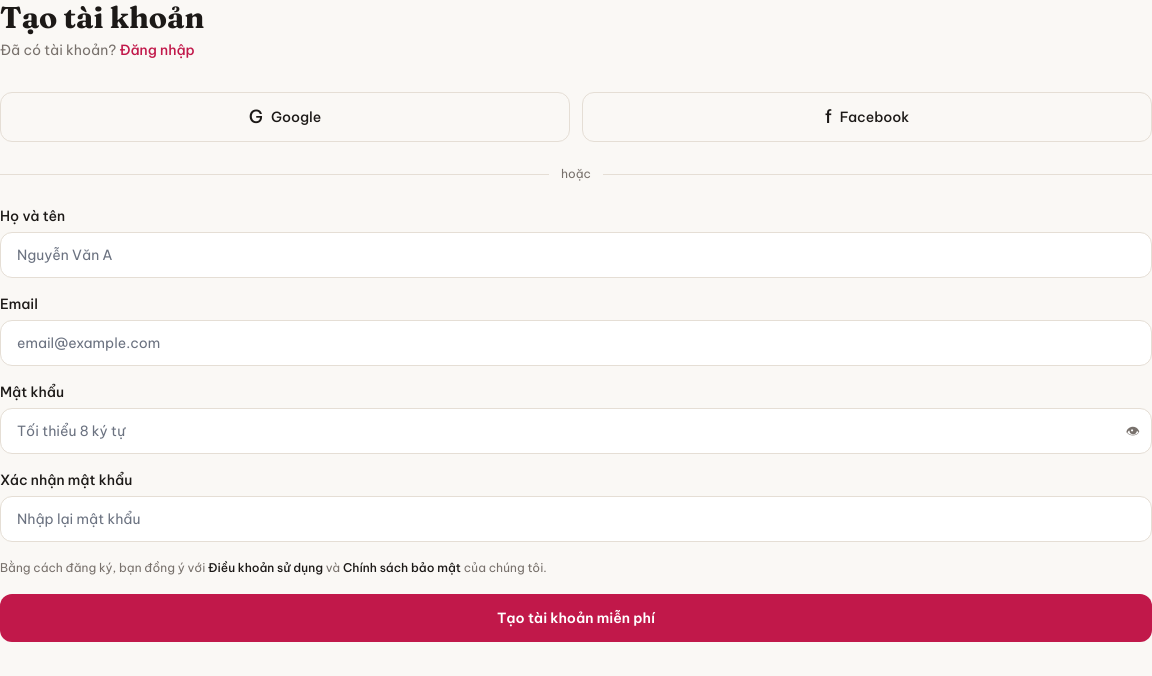
Test case: RegisterPage.vue › displays network error when server is unreachable
Step 1. Type "Test User" into the field labelled "Họ và tên" → {"x": 576, "y": 255}, box [0,232,1151,278]
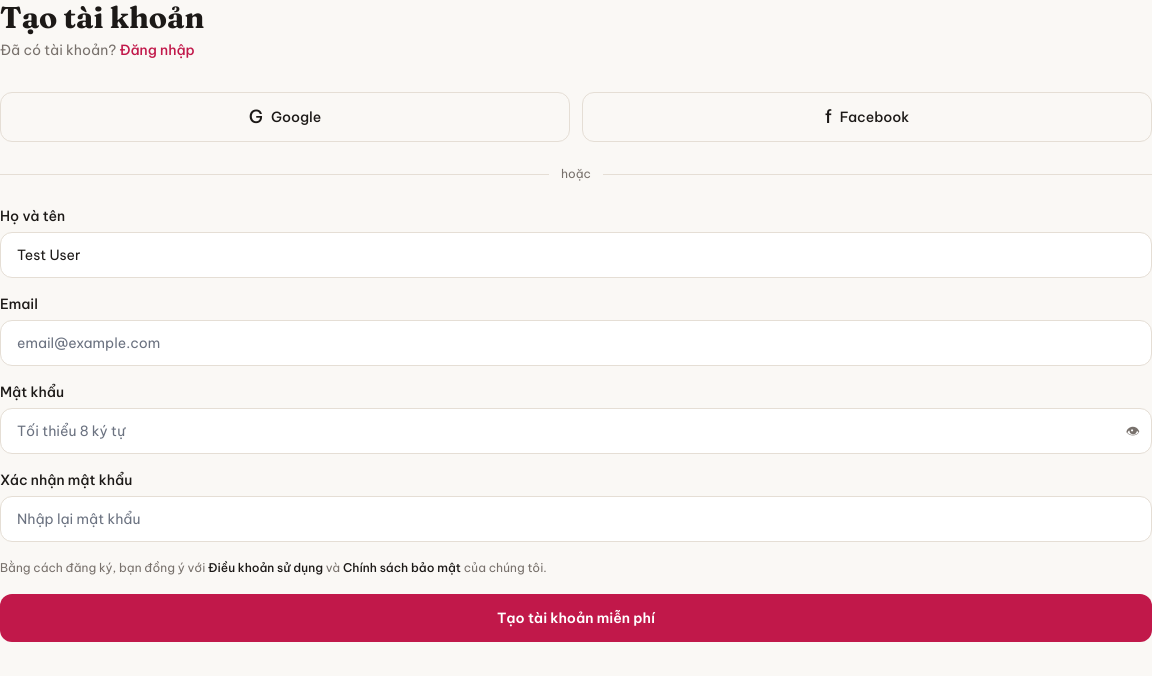
Step 2. Type "test@example.com" into the field labelled "Email" → {"x": 576, "y": 343}, box [0,320,1151,366]
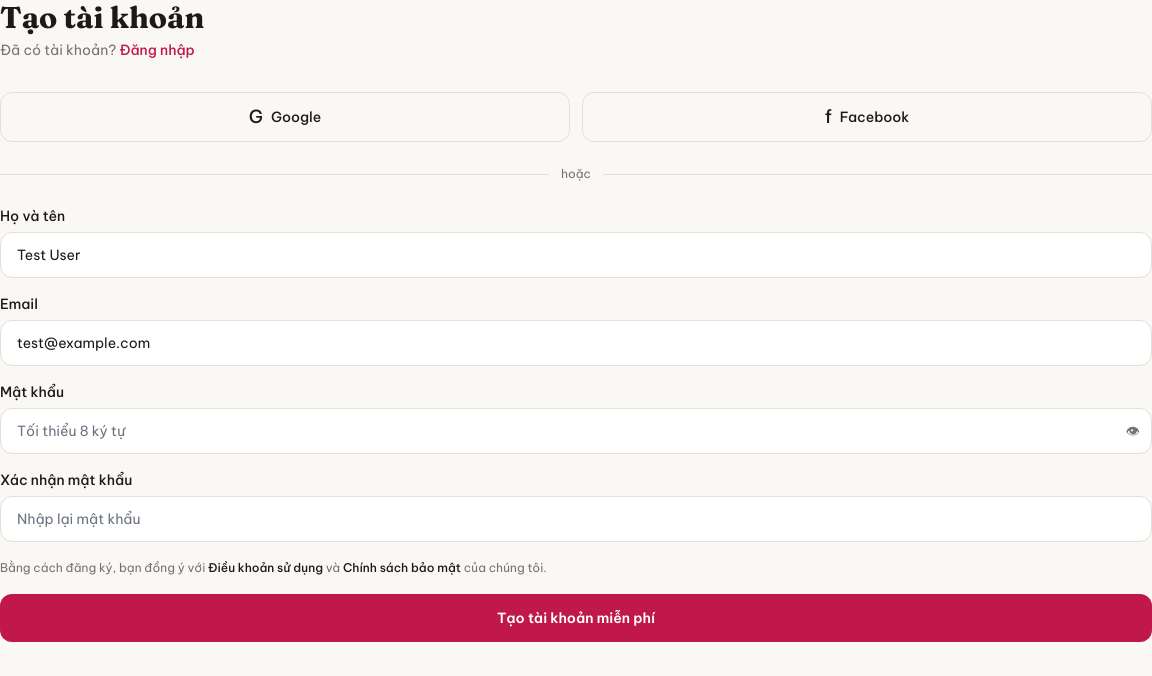
Step 3. Type "password123" into the password field labelled "Mật khẩu" → {"x": 576, "y": 431}, box [0,408,1151,454]
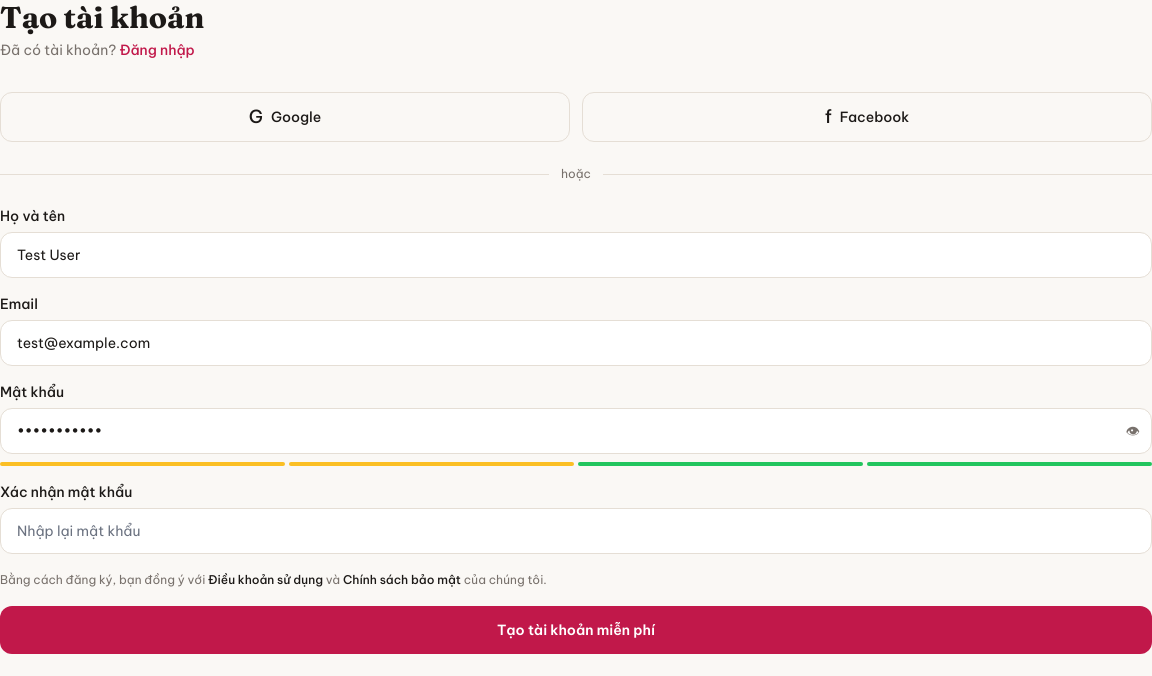
Step 4. Type "password123" into the password field labelled "Xác nhận mật khẩu" → {"x": 576, "y": 531}, box [0,508,1151,554]
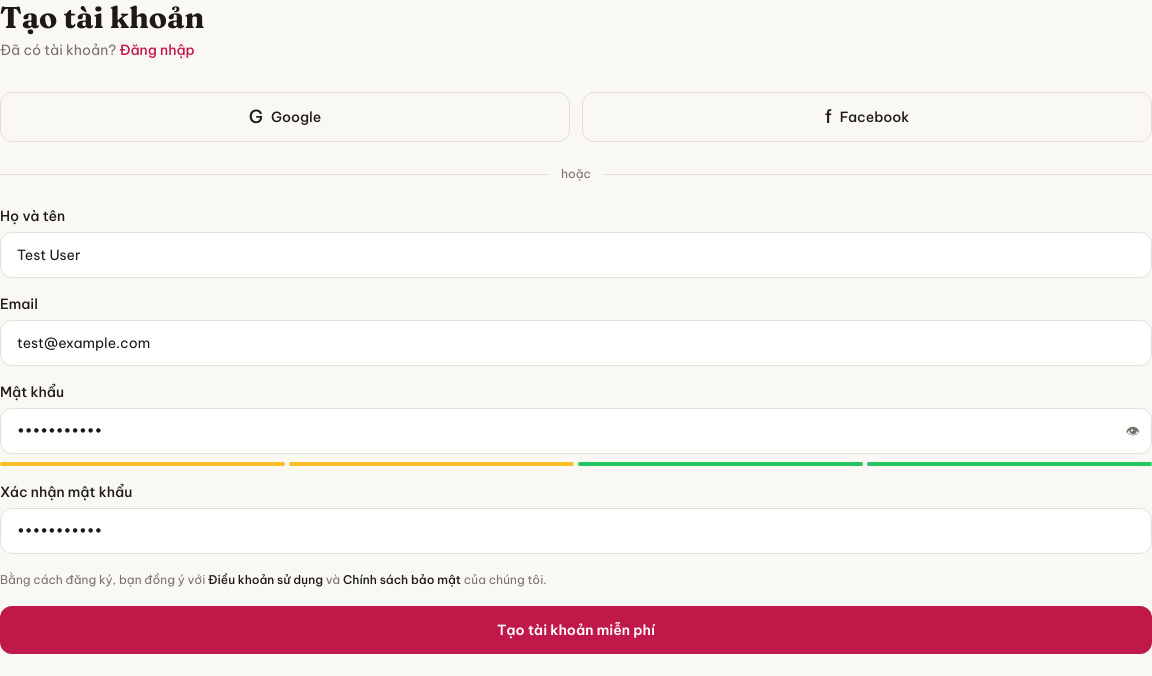
Step 5. Submit the form
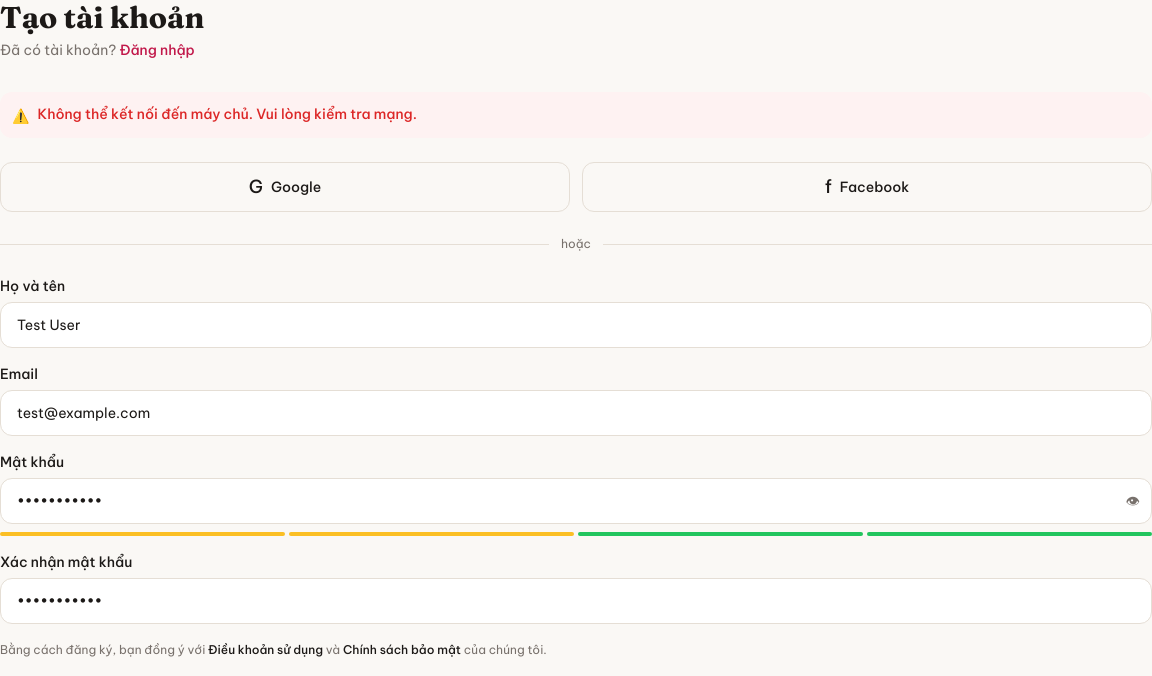
Expected: the text "Không thể kết nối đến máy chủ" is shown, [38,105,417,123]
